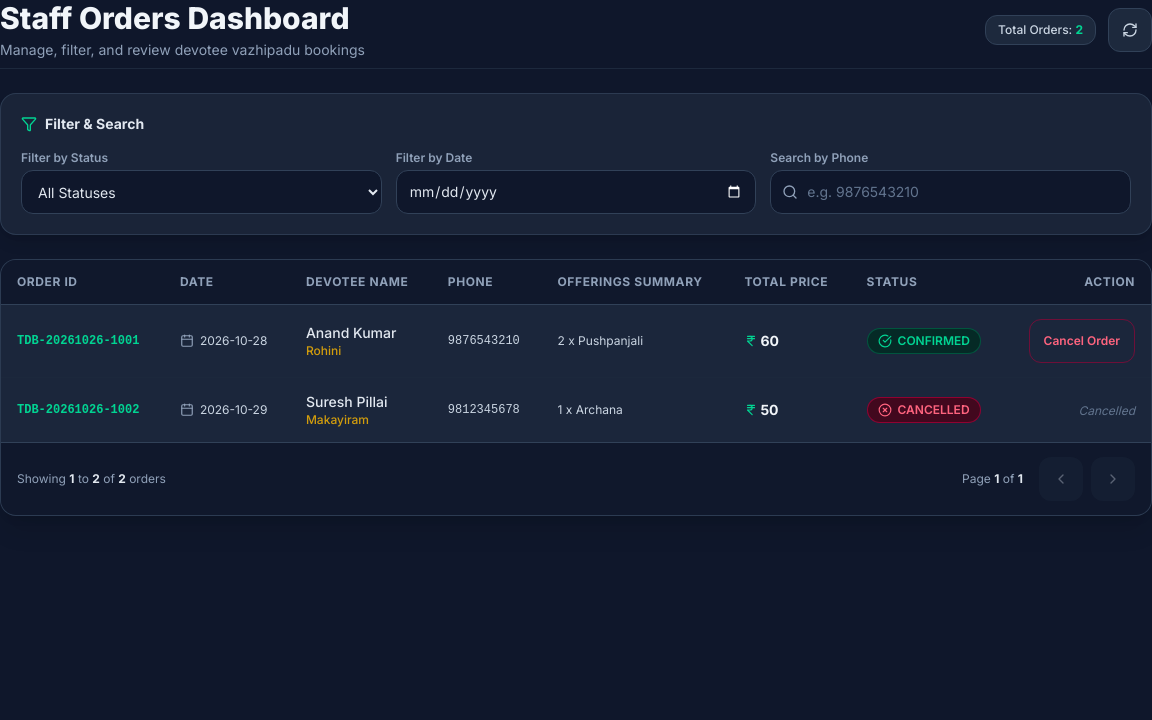
Scenario: Phase 4: Staff Orders Management Dashboard › clicking "Cancel Order" updates target order status badge to CANCELLED immediately
Expected: the text "TDB-20261026-1001" is shown, [1,304,164,378]
Click the button with aria-label "Cancel Order TDB-20261026-1001" at (1082, 341), box [1029,319,1135,363]
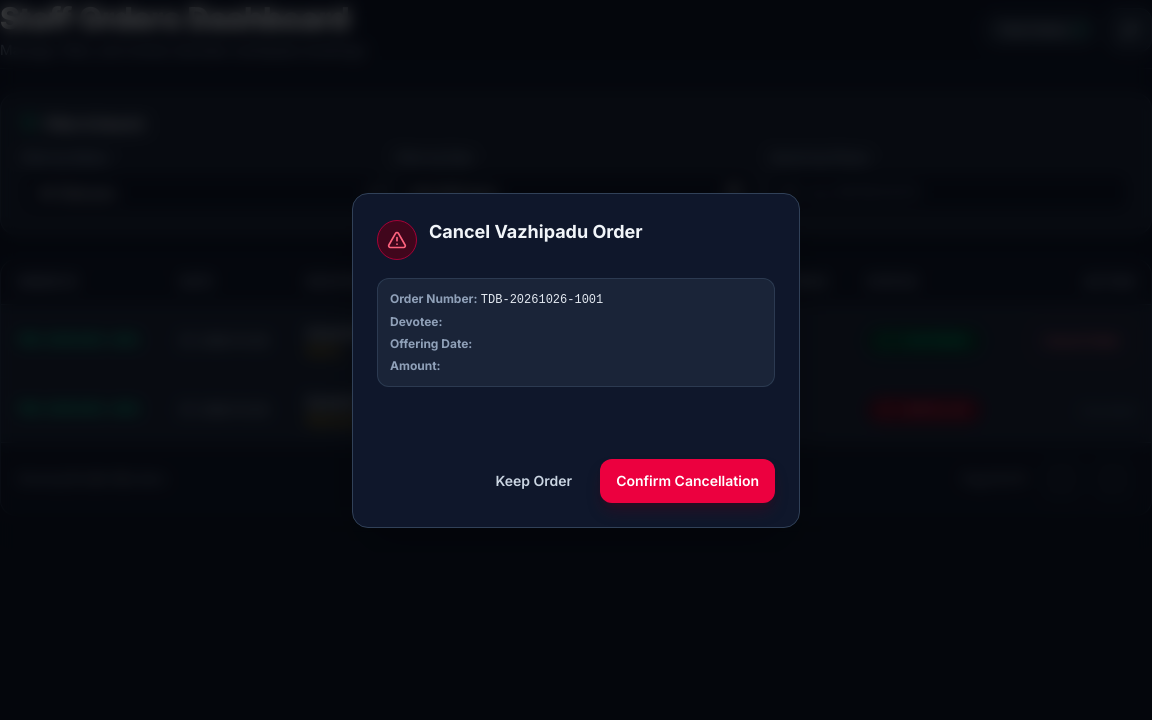
Now the dialog "Cancel Vazhipadu Order" is shown
Note: Confirm cancellation
Click the button "Confirm Cancellation" at (688, 480), box [600,458,775,502]
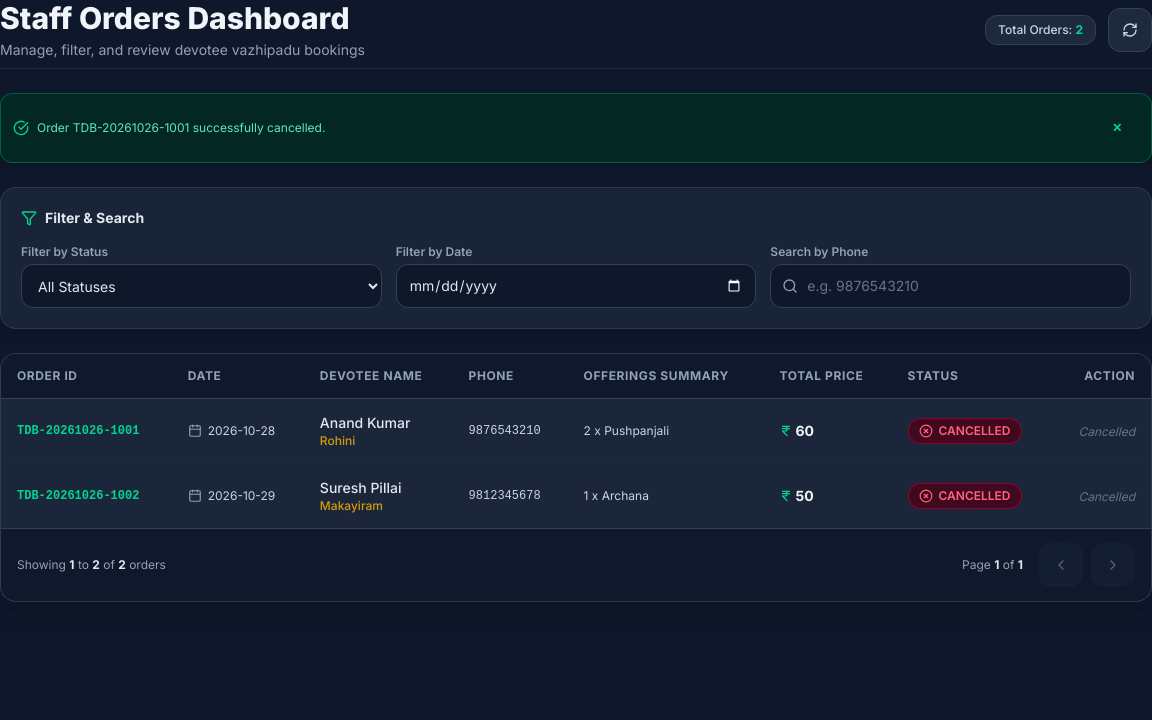
Now the text "Order TDB-20261026-1001 successfully cancelled." is shown, box [37,120,325,136]
